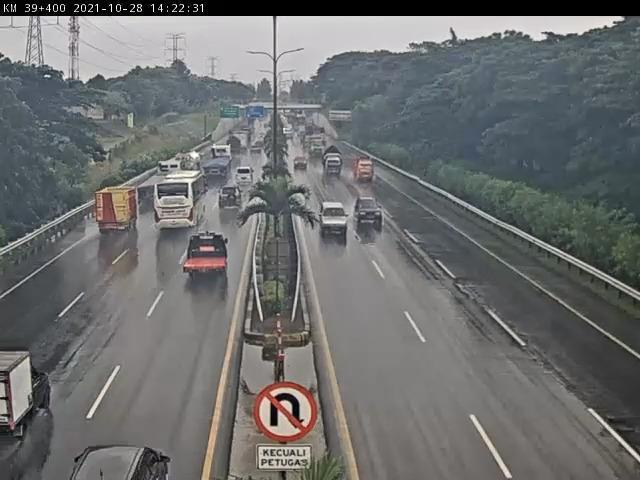bus: (154, 172, 209, 231)
car: (1, 343, 53, 439), (320, 201, 348, 235), (355, 197, 383, 226), (218, 186, 245, 213), (235, 168, 255, 188), (294, 156, 310, 171)
truck: (183, 232, 233, 279), (94, 186, 140, 236), (134, 162, 180, 206), (201, 146, 233, 182), (172, 153, 204, 178), (354, 154, 378, 185), (325, 148, 346, 179)
